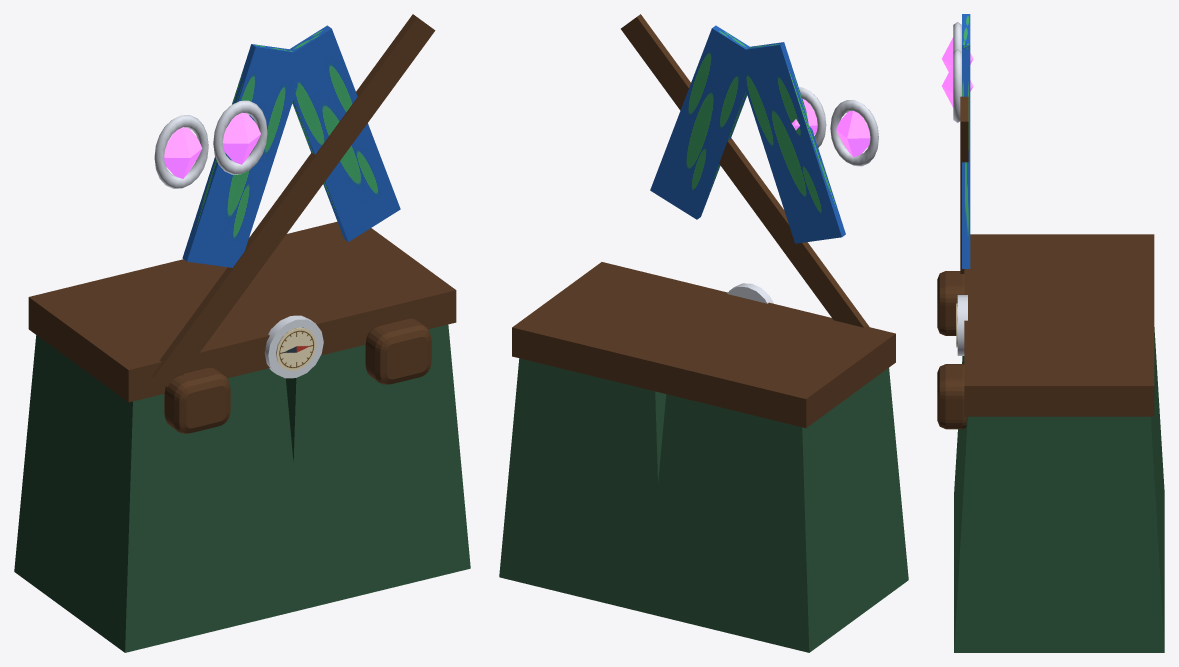
Rendered from eqf_eqsa2.glb.
3 renders of one model, left to right at view 1: azimuth 30°, elevation 25°; view 2: azimuth 150°, elevation 25°; view 3: azimuth 270°, elevation 25°, orthographic. The views are drawn at different scales.
Size of the model in its own units: 2.24 by 3.52 by 1.34.
7 materials, 3 textured.
